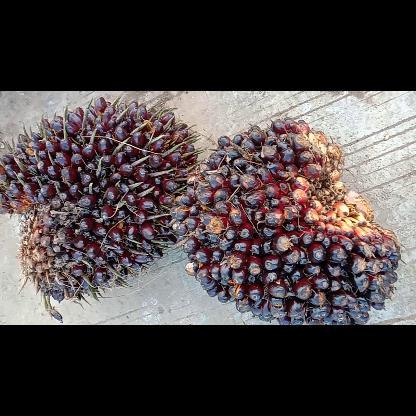TBS mentah: (171, 119, 401, 324), (0, 97, 199, 325)
